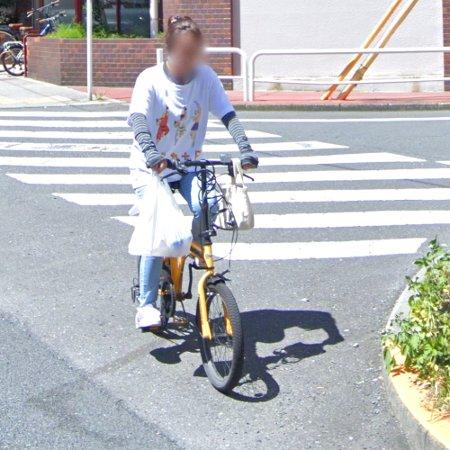crosswalks: (222, 121, 450, 261), (0, 107, 134, 225)
